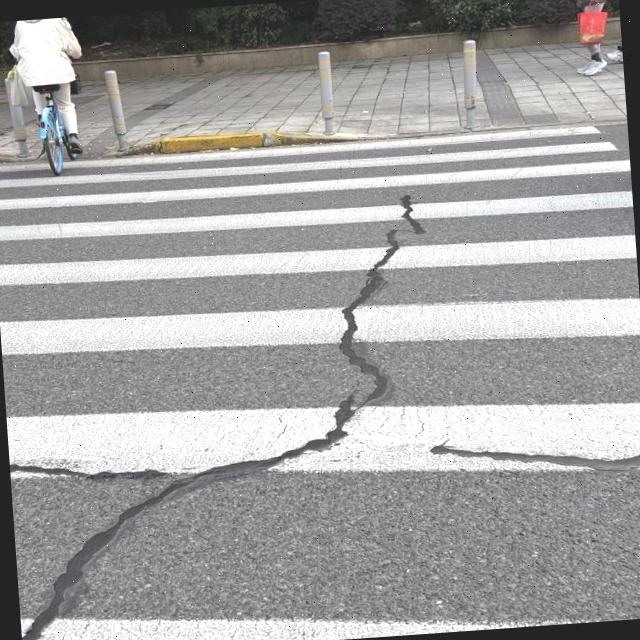curb: (77, 33, 464, 81), (125, 131, 395, 154), (477, 23, 576, 49), (0, 152, 31, 162)
